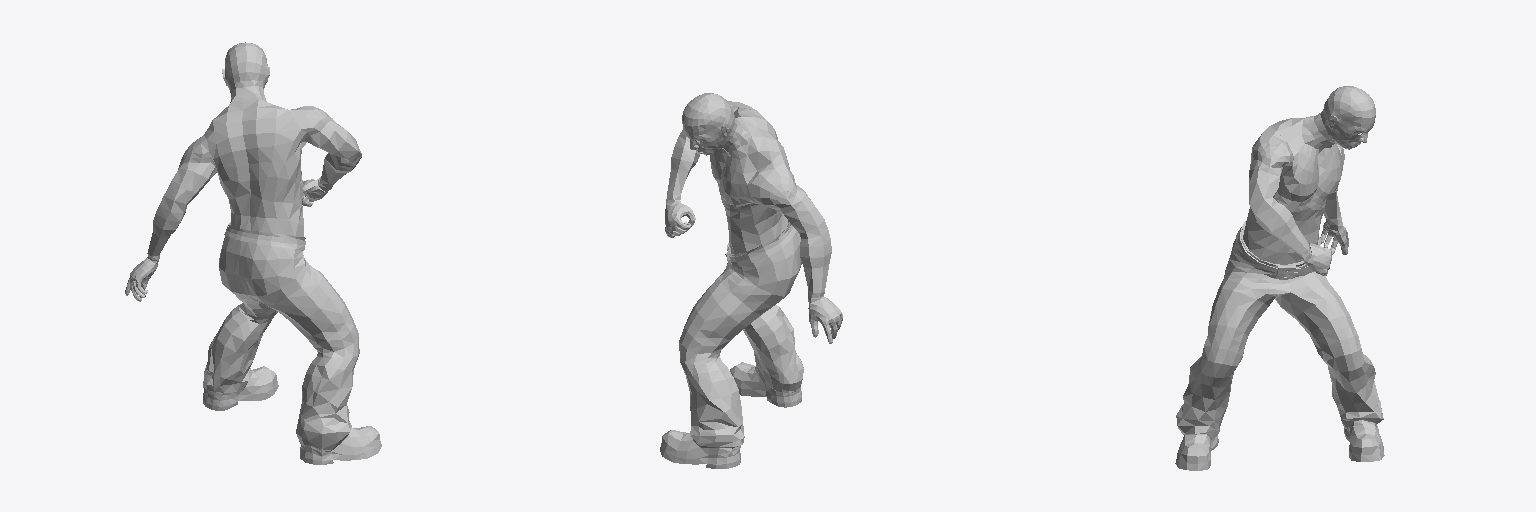
The picture shows the model from 3 angles: view 1: azimuth 30°, elevation 25°; view 2: azimuth 150°, elevation 25°; view 3: azimuth 270°, elevation 25°; orthographic projection.
Visible parts, largest first — view 1: Thug; view 2: Thug; view 3: Thug.
Part boxes in pixels (bbox=[...]): Thug: bbox=[125, 42, 381, 464]; Thug: bbox=[660, 93, 842, 468]; Thug: bbox=[1175, 86, 1384, 470].
Bounding box in the file's own units: 92.12 × 162 × 84.93.